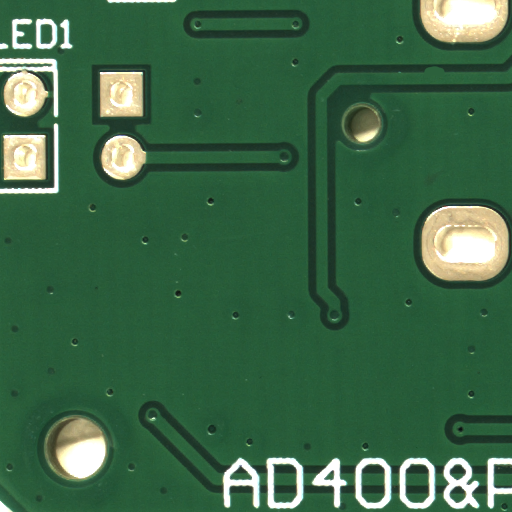Spur: (433, 70, 455, 77)
